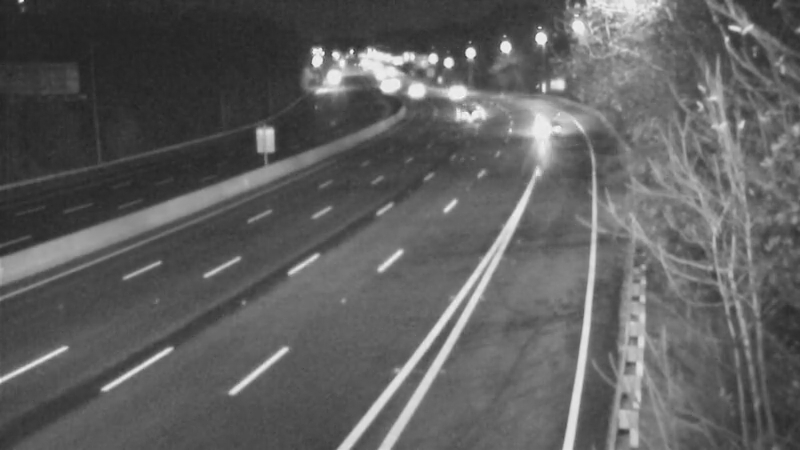vehicle: (389, 63, 439, 113), (424, 69, 474, 119), (434, 92, 484, 142), (517, 102, 567, 152)
